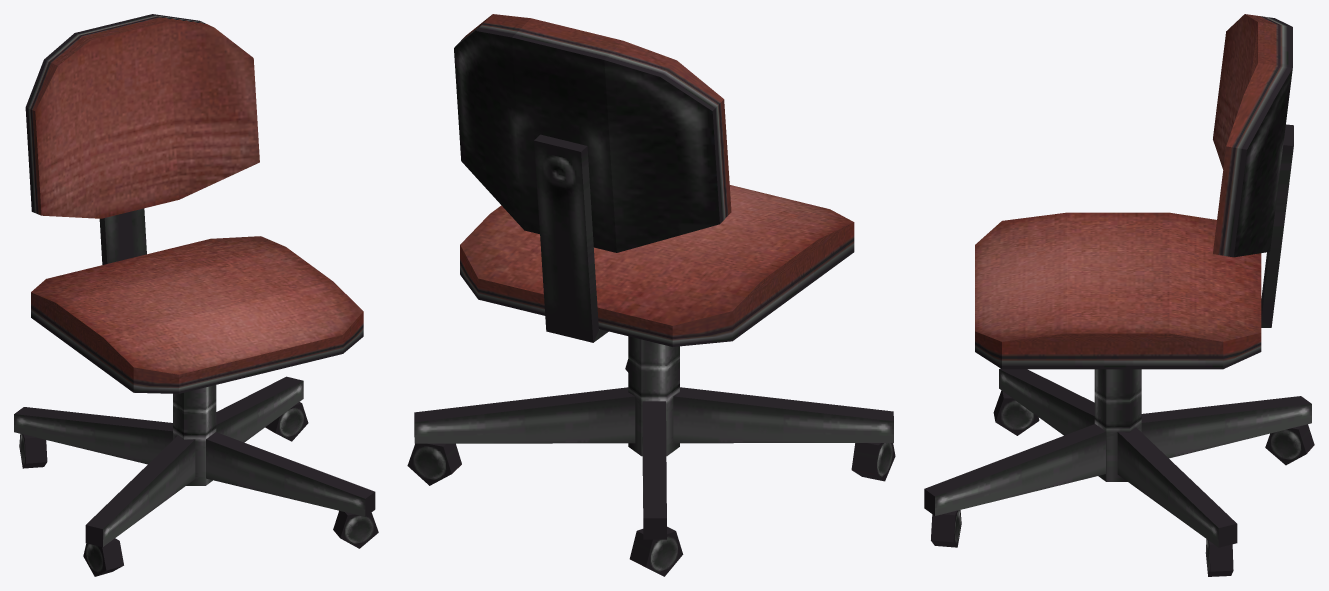
The model's file is chr_office.fbx.
The picture shows the model from 3 angles, left to right: view 1: azimuth 30°, elevation 25°; view 2: azimuth 150°, elevation 25°; view 3: azimuth 270°, elevation 25°; orthographic projection. The views are drawn at different scales.
Parts seen in each view (by area): view 1: mesh_0; view 2: mesh_0; view 3: mesh_0.
Part boxes in pixels (bbox=[...]): mesh_0: bbox=[14, 14, 378, 576]; mesh_0: bbox=[407, 14, 895, 576]; mesh_0: bbox=[924, 14, 1314, 576].
Bounding box in the file's own units: 76.07 × 99.58 × 76.38.
1 material, 1 textured.
